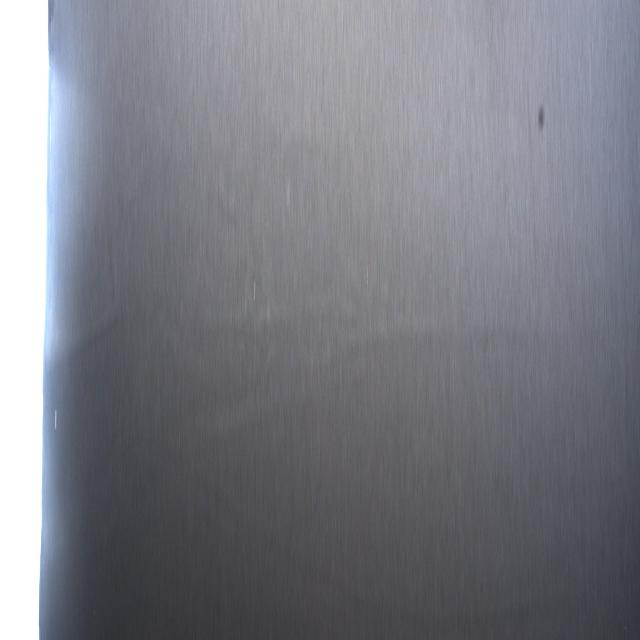crease: (170, 453, 365, 611), (197, 368, 345, 446), (201, 289, 358, 337), (61, 302, 120, 371), (356, 317, 464, 352)
